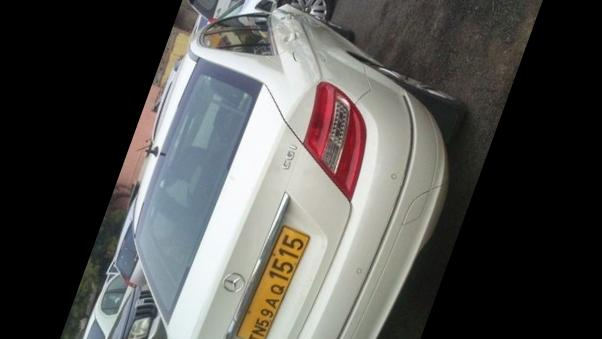plate: (220, 206, 320, 339)
